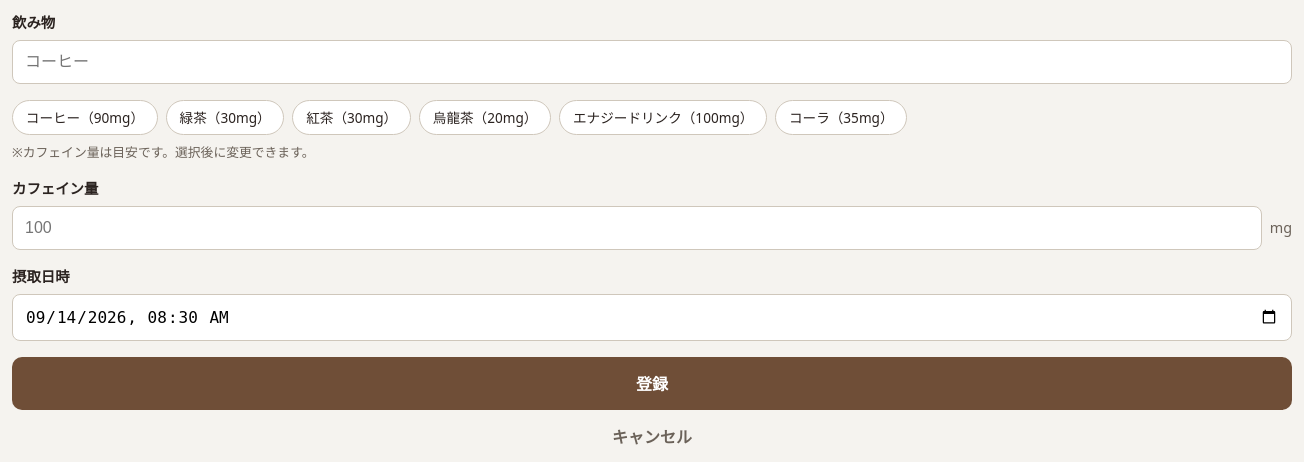
RecordForm › 飲み物プリセット（Version 1.5） › TEST-508: 複数のプリセットを連続で選択した場合、最後に選んだ値が反映される
The image size is (1304, 462).
Click the button "コーヒー（90mg）" at (85, 117), box [12, 100, 158, 135]
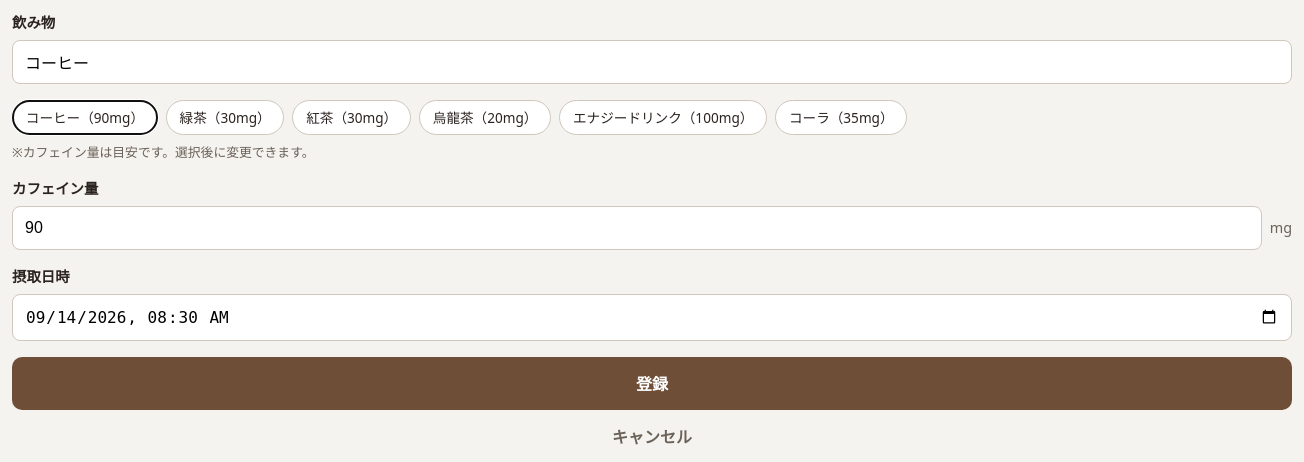
Click the button "コーラ（35mg）" at (841, 117), box [775, 100, 907, 135]
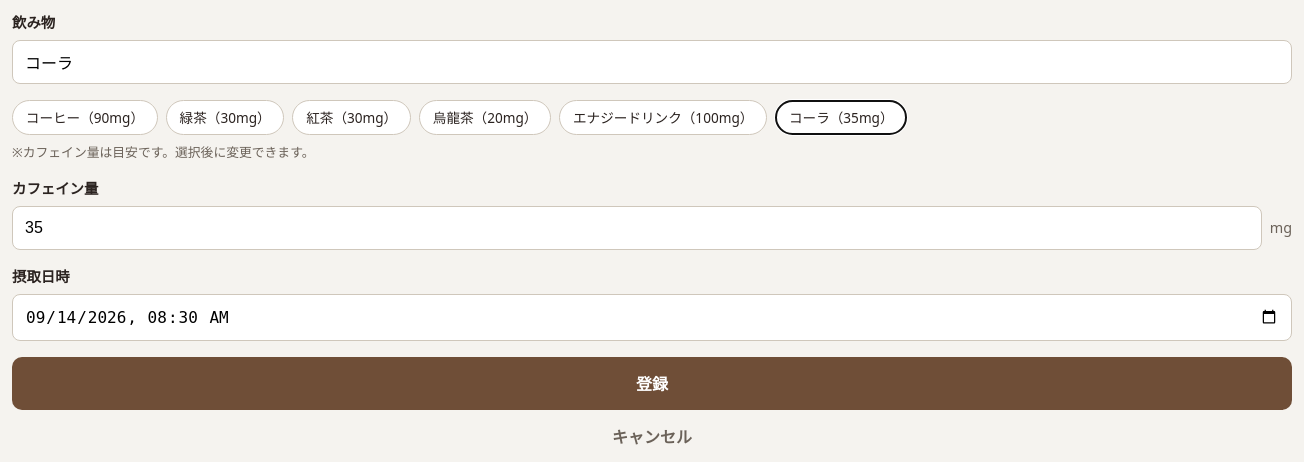
Expected: the field labelled "飲み物" holds "コーラ", [12, 40, 1292, 84]
Expected: the number field labelled "カフェイン量" holds "35", [12, 206, 1262, 250]
